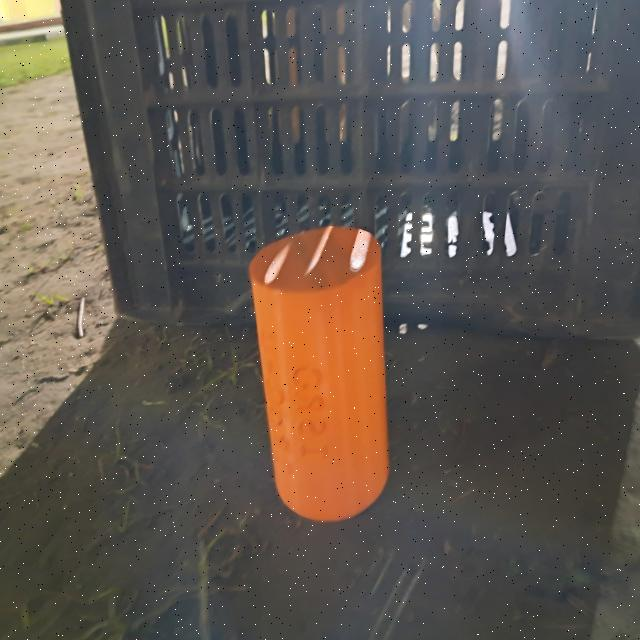Cylinder: (248, 224, 391, 522)
